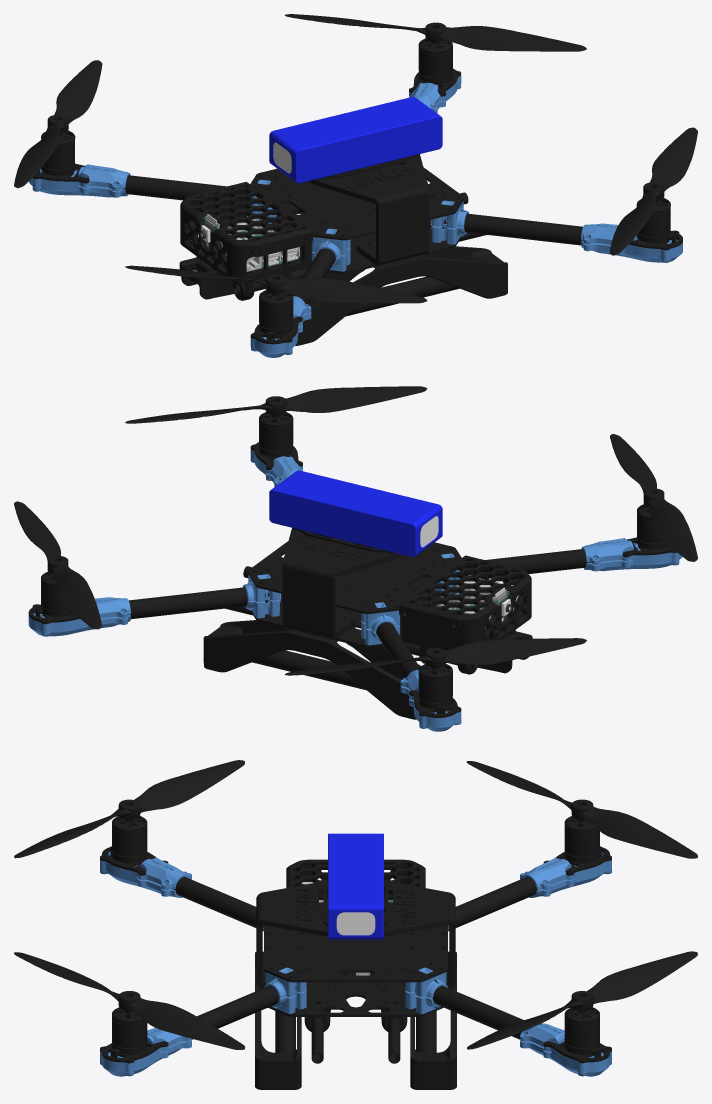
Rendered from drone.glb.
The picture shows the model from 3 angles, top to bottom: view 1: azimuth 30°, elevation 25°; view 2: azimuth 150°, elevation 25°; view 3: azimuth 270°, elevation 25°; orthographic projection. The views are drawn at different scales.
Visible parts, largest first — view 1: object 1, anim_adr_11_Turnigy_3300mAh_4S_1, object 2, object 3, anim_adr_9_top_battery_mount_1, anim_adr_12_new_landing_gear_mount_1, anim_adr_6_raspi_top_cover_1, anim_adr_15_Propeller_10x45_2, anim_adr_5_rpi5_rpicam3_mount_1, anim_adr_17_Propeller_10x45_4, anim_adr_14_Propeller_10x45_1, anim_adr_16_Propeller_10x45_3 (+1 smaller); view 2: object 1, anim_adr_11_Turnigy_3300mAh_4S_1, object 2, anim_adr_13_new_landing_gear_mount_Mirror_1, anim_adr_10_top_battery_mount_2, object 3, anim_adr_6_raspi_top_cover_1, anim_adr_14_Propeller_10x45_1, anim_adr_16_Propeller_10x45_3, anim_adr_5_rpi5_rpicam3_mount_1, anim_adr_17_Propeller_10x45_4, anim_adr_15_Propeller_10x45_2; view 3: object 1, object 2, object 3, anim_adr_11_Turnigy_3300mAh_4S_1, anim_adr_17_Propeller_10x45_4, anim_adr_15_Propeller_10x45_2, anim_adr_14_Propeller_10x45_1, anim_adr_16_Propeller_10x45_3, anim_adr_10_top_battery_mount_2, anim_adr_9_top_battery_mount_1, anim_adr_13_new_landing_gear_mount_Mirror_1, anim_adr_12_new_landing_gear_mount_1 (+1 smaller).
Part boxes in pixels (bbox=[...]): object 1: bbox=[122, 154, 582, 316]; anim_adr_11_Turnigy_3300mAh_4S_1: bbox=[269, 96, 442, 183]; object 2: bbox=[29, 75, 682, 357]; object 3: bbox=[32, 38, 682, 344]; anim_adr_9_top_battery_mount_1: bbox=[309, 155, 428, 265]; anim_adr_12_new_landing_gear_mount_1: bbox=[295, 246, 507, 345]; anim_adr_6_raspi_top_cover_1: bbox=[180, 181, 312, 257]; anim_adr_15_Propeller_10x45_2: bbox=[125, 265, 427, 303]; anim_adr_5_rpi5_rpicam3_mount_1: bbox=[180, 192, 310, 282]; anim_adr_17_Propeller_10x45_4: bbox=[284, 14, 586, 51]; anim_adr_14_Propeller_10x45_1: bbox=[609, 127, 697, 255]; anim_adr_16_Propeller_10x45_3: bbox=[14, 60, 102, 188]; object 1: bbox=[128, 528, 590, 690]; anim_adr_11_Turnigy_3300mAh_4S_1: bbox=[269, 470, 442, 556]; object 2: bbox=[28, 449, 682, 731]; anim_adr_13_new_landing_gear_mount_Mirror_1: bbox=[203, 620, 420, 719]; anim_adr_10_top_battery_mount_2: bbox=[282, 529, 402, 639]; object 3: bbox=[28, 412, 676, 717]; anim_adr_6_raspi_top_cover_1: bbox=[399, 555, 531, 630]; anim_adr_14_Propeller_10x45_1: bbox=[125, 386, 427, 423]; anim_adr_16_Propeller_10x45_3: bbox=[284, 638, 586, 675]; anim_adr_5_rpi5_rpicam3_mount_1: bbox=[401, 566, 531, 650]; anim_adr_17_Propeller_10x45_4: bbox=[14, 501, 101, 629]; anim_adr_15_Propeller_10x45_2: bbox=[610, 434, 697, 561]; object 1: bbox=[147, 876, 564, 1063]; object 2: bbox=[100, 851, 611, 1076]; object 3: bbox=[100, 816, 611, 1063]; anim_adr_11_Turnigy_3300mAh_4S_1: bbox=[328, 833, 383, 939]; anim_adr_17_Propeller_10x45_4: bbox=[467, 951, 697, 1049]; anim_adr_15_Propeller_10x45_2: bbox=[14, 760, 244, 858]; anim_adr_14_Propeller_10x45_1: bbox=[14, 952, 245, 1049]; anim_adr_16_Propeller_10x45_3: bbox=[467, 761, 697, 858]; anim_adr_10_top_battery_mount_2: bbox=[384, 880, 455, 988]; anim_adr_9_top_battery_mount_1: bbox=[256, 880, 327, 988]; anim_adr_13_new_landing_gear_mount_Mirror_1: bbox=[410, 951, 456, 1089]; anim_adr_12_new_landing_gear_mount_1: bbox=[255, 951, 301, 1089].
Size of the model in its own units: 0.5344 by 0.1445 by 0.5344.
